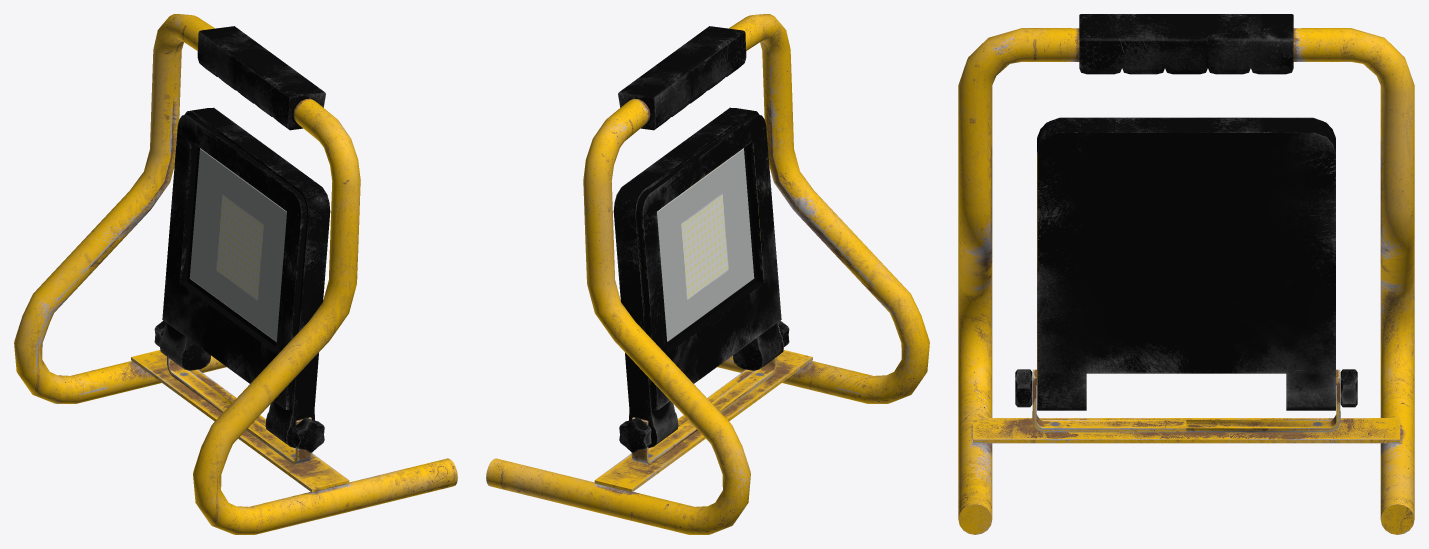
The model's file is WorkLight.fbx.
3 views of the same model, side by side, from view 1: azimuth 30°, elevation 25°; view 2: azimuth 150°, elevation 25°; view 3: azimuth 270°, elevation 25° (orthographic). The views are drawn at different scales.
Visible parts, largest first — view 1: Cube_2; view 2: Cube_2; view 3: Cube_2.
Boxes of the visible parts, <box> form: Cube_2: <box>14,14,457,534</box>; Cube_2: <box>486,14,929,534</box>; Cube_2: <box>958,14,1414,534</box>.
Bounding box in the file's own units: 40.33 × 58.04 × 52.76.
Materials: 1 (1 with a texture image).
